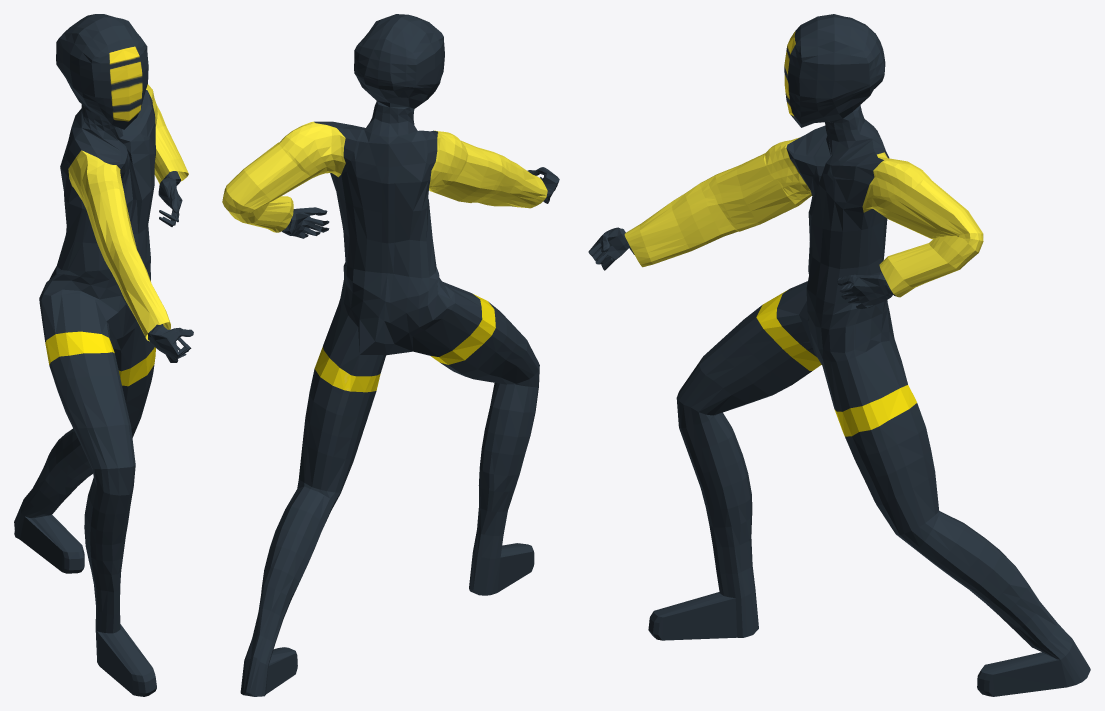
Rendered from Sentry_WR_000002.obj.
The picture shows the model from 3 angles, left to right: view 1: azimuth 30°, elevation 25°; view 2: azimuth 150°, elevation 25°; view 3: azimuth 270°, elevation 25°; orthographic projection. The views are drawn at different scales.
Visible parts, largest first — view 1: Cube; view 2: Cube; view 3: Cube.
Boxes of the visible parts, x1,y1,x2,y2 form: Cube: (14, 14, 193, 696); Cube: (222, 14, 559, 696); Cube: (588, 14, 1090, 696).
Size of the model in its own units: 1.18 by 3.61 by 2.52.
